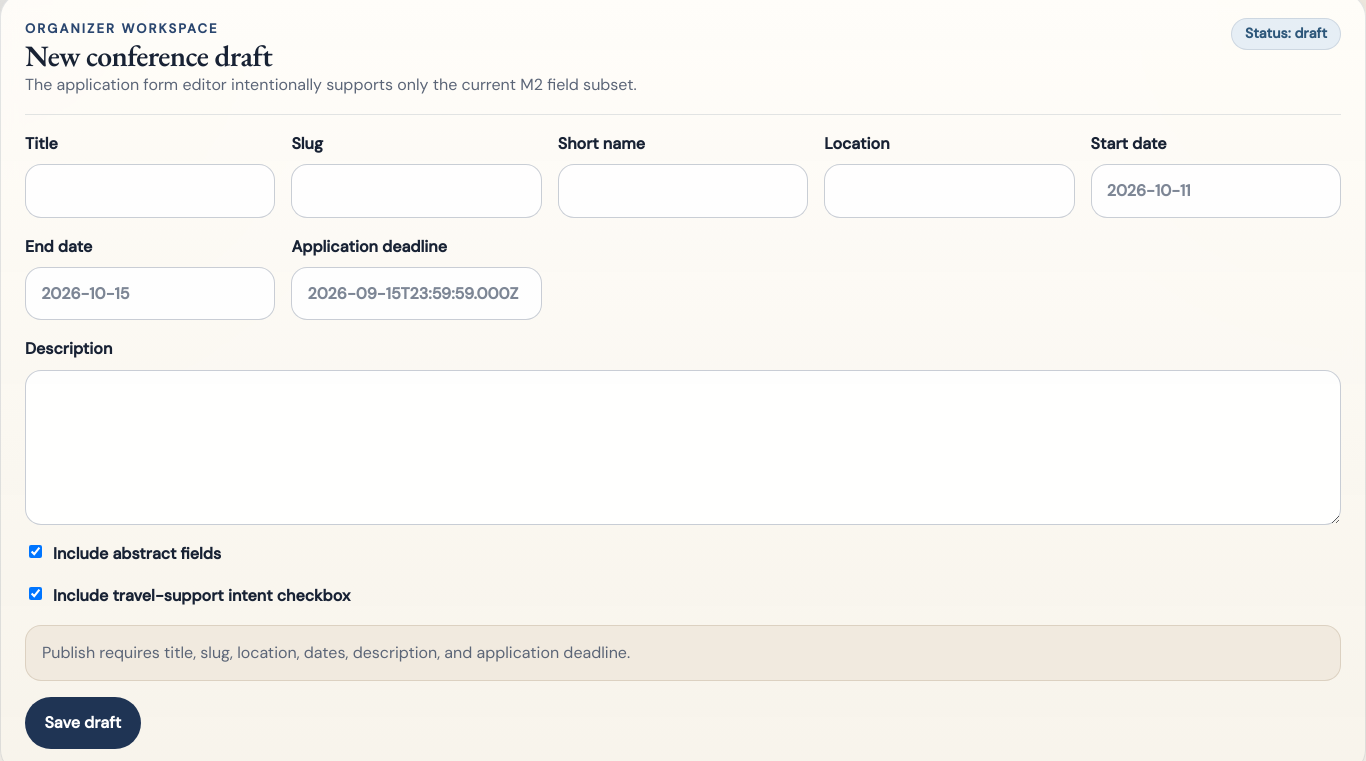
organizer conference editor pages › creates a new draft conference from the organizer new page
Type "Operator Algebra Summit" into the field labelled "Title". click: (150, 191)
box: [25, 164, 275, 218]
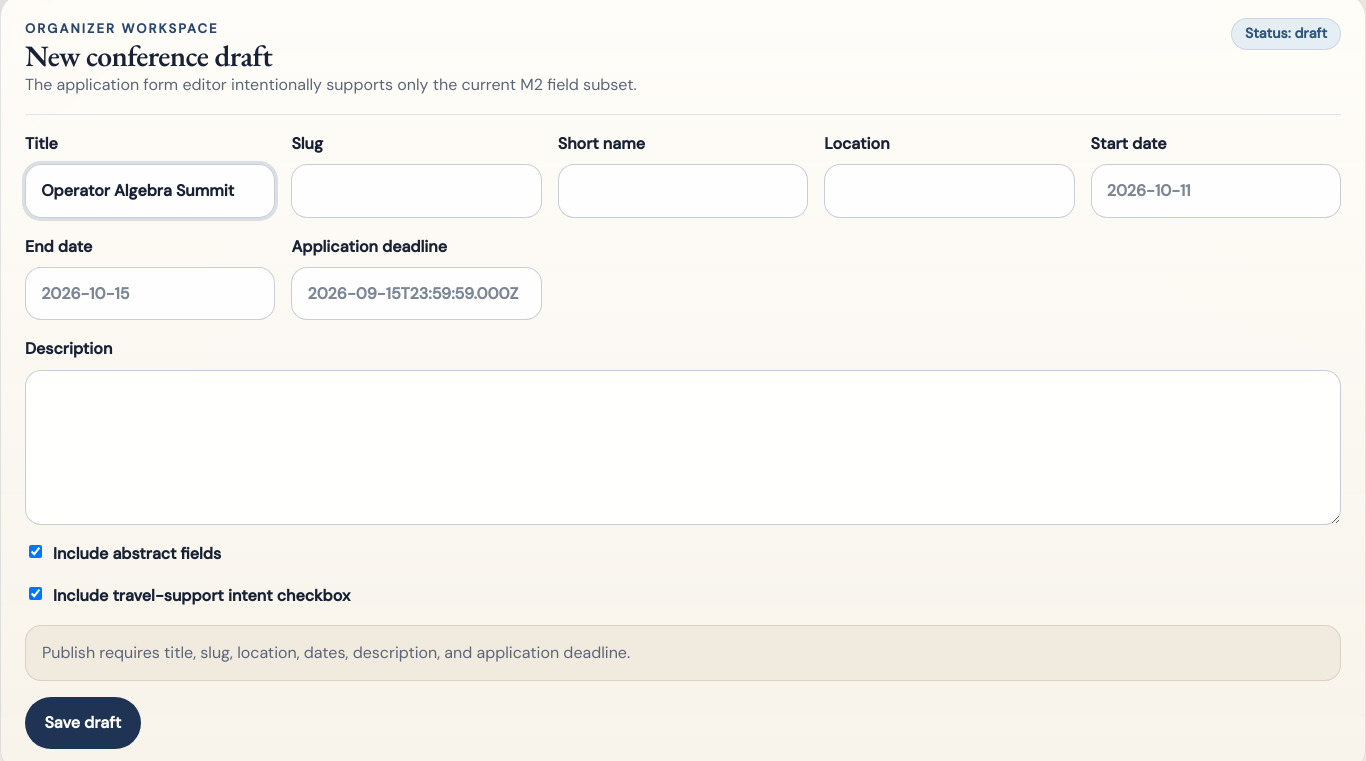
Type "operator-algebra-summit" into the field labelled "Slug". click: (417, 191)
box: [291, 164, 542, 218]
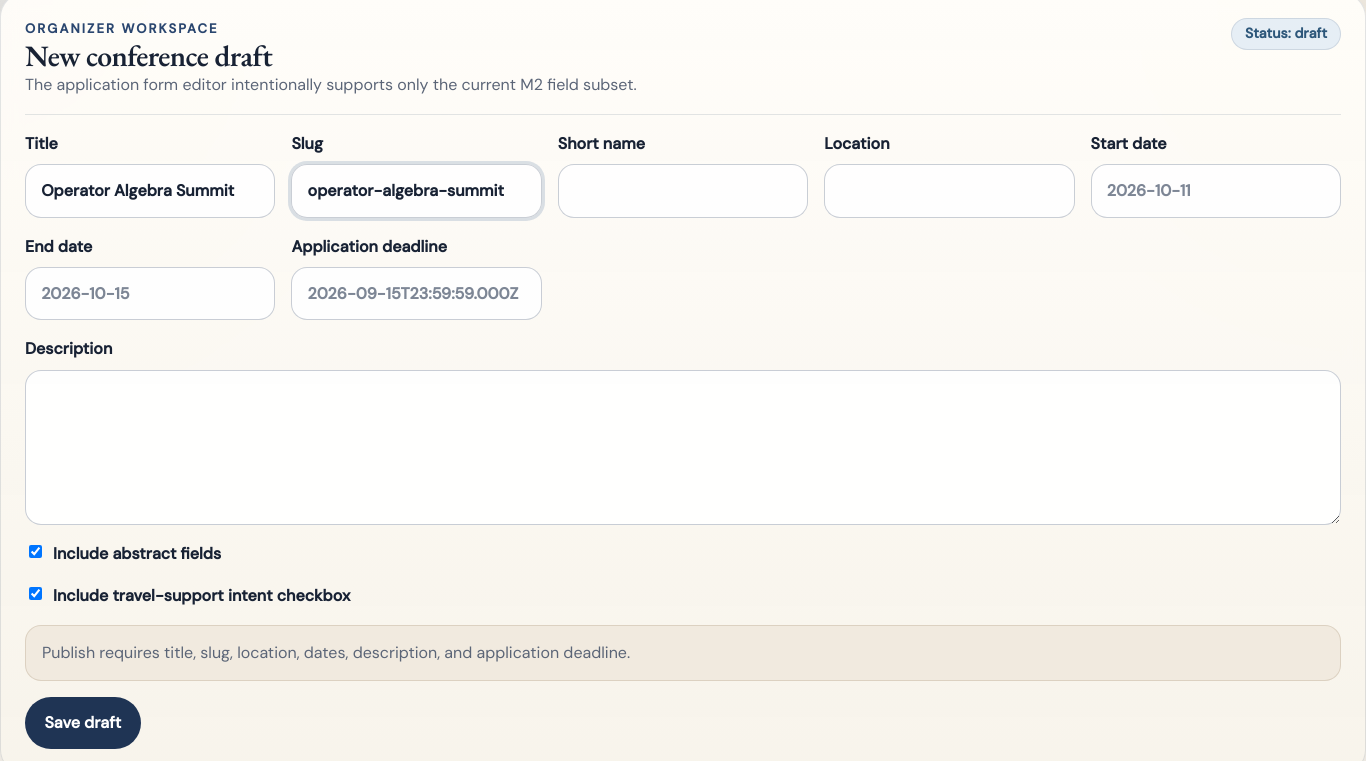
Click the button "Save draft". click: (83, 723)
box: [25, 697, 141, 749]
(page scrolled)
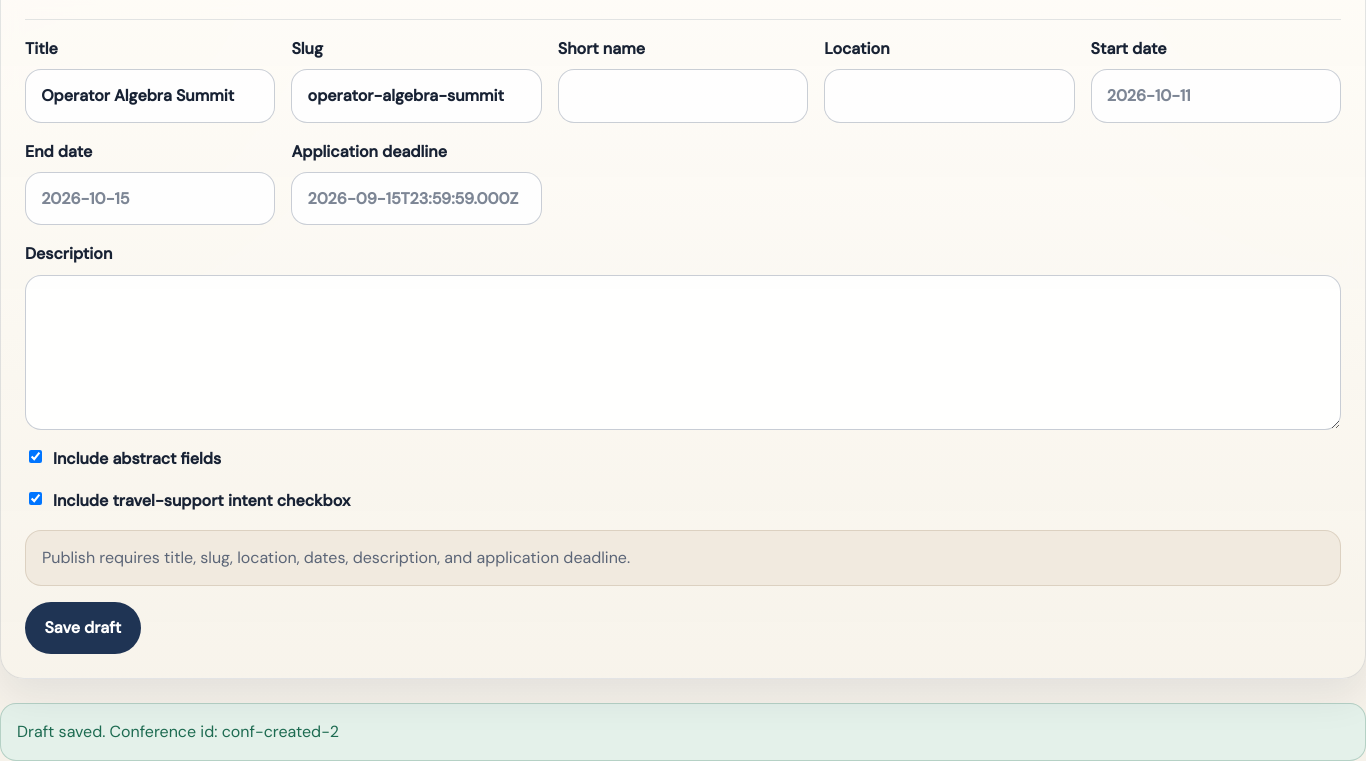
Now the text "Draft saved. Conference id: conf-created-2" is shown, box [0, 703, 1365, 760]
